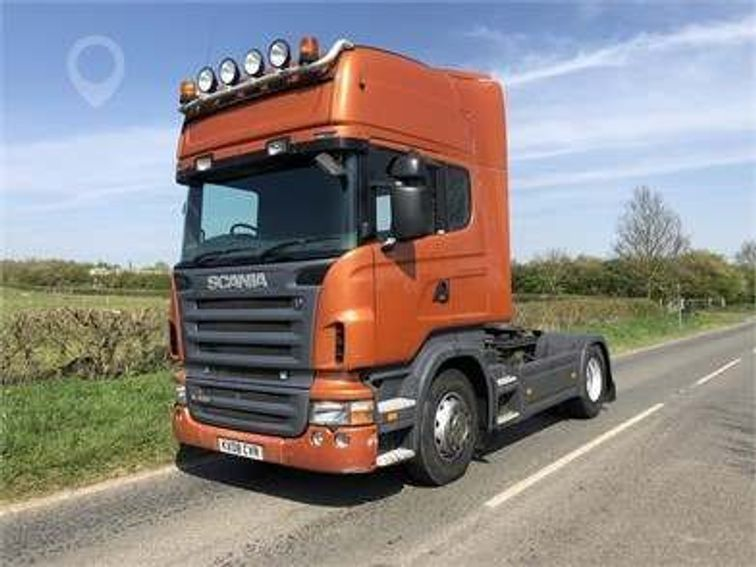Semi: (167, 37, 614, 486)
